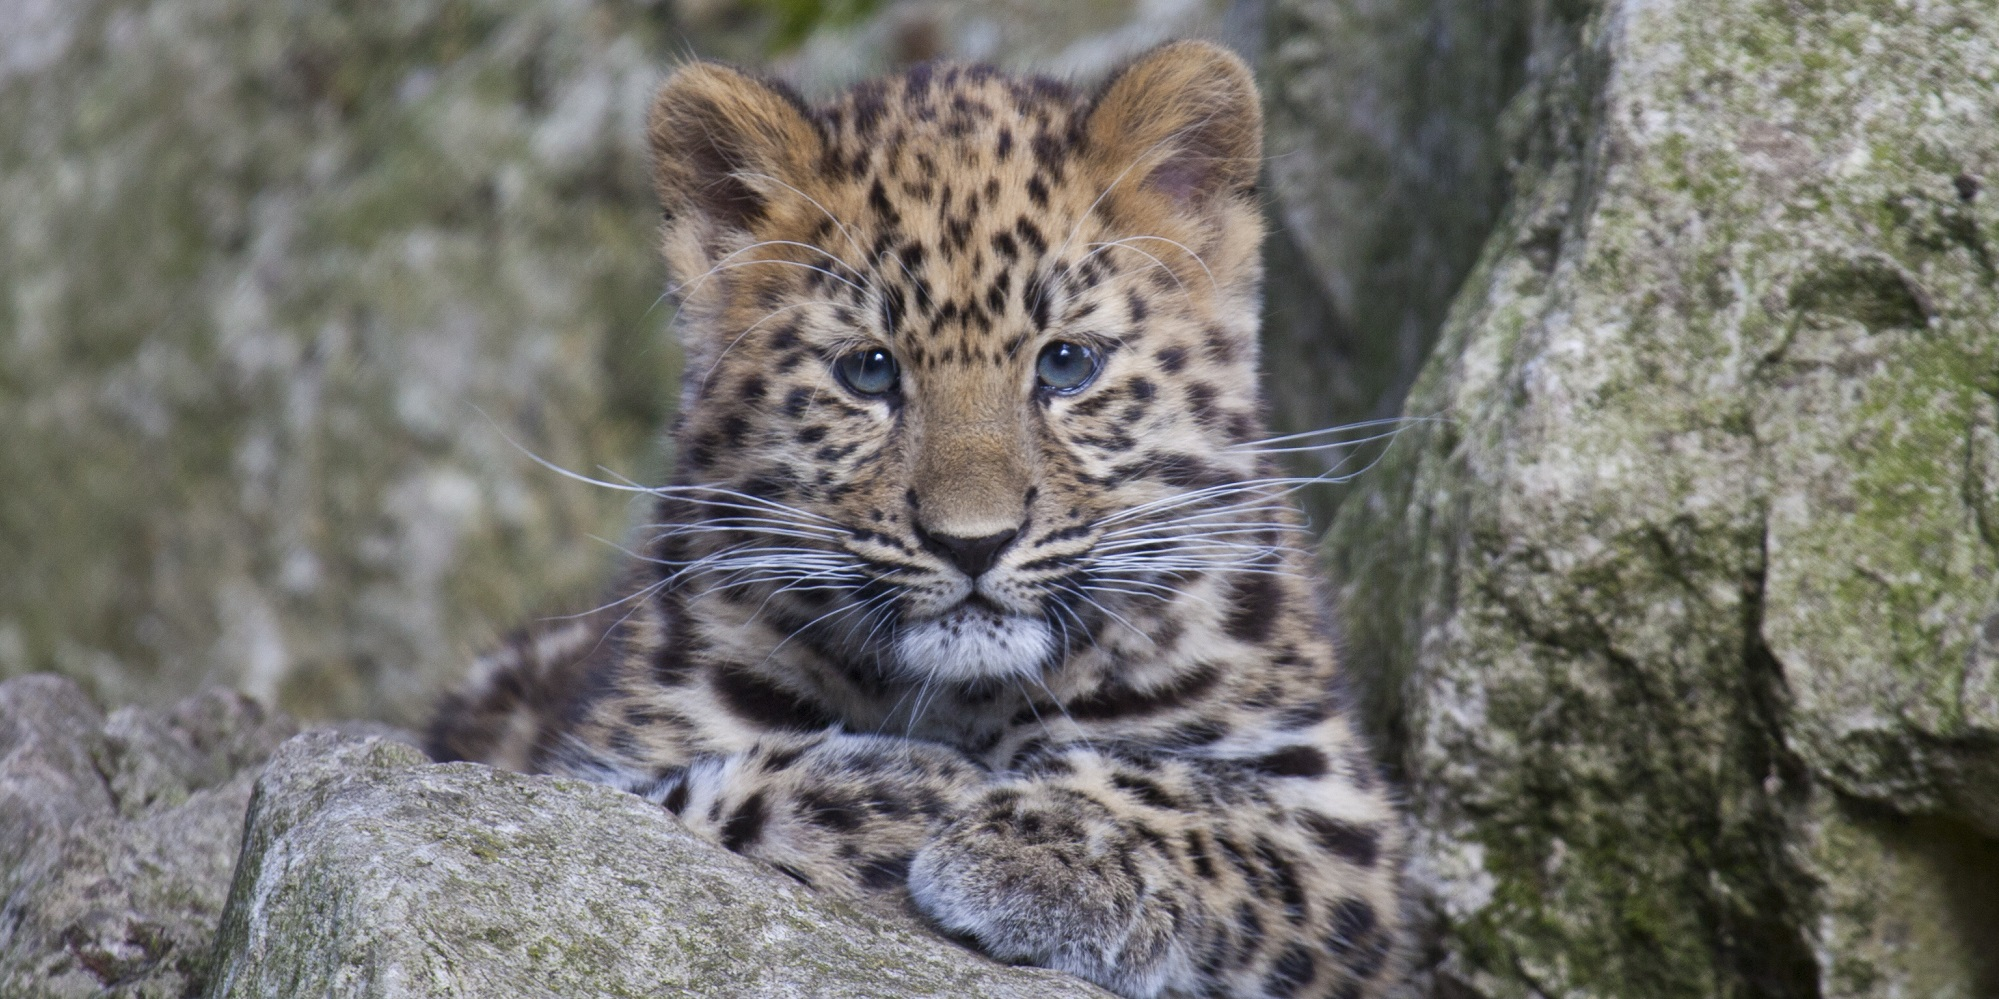amur_leopard: (551, 20, 1416, 772)
